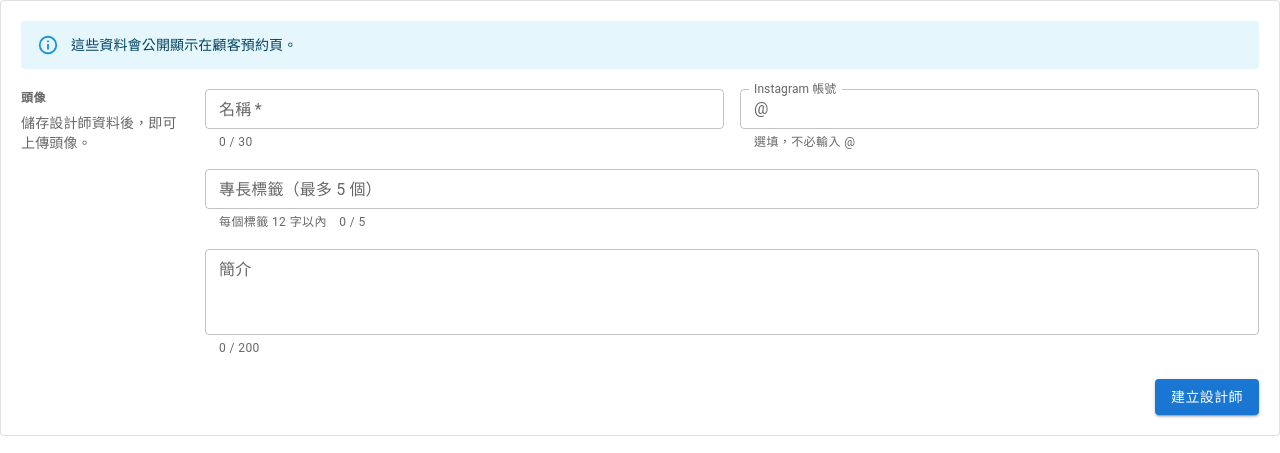
Scenario: DesignerBasicInfoForm › 名稱空白時阻擋送出並顯示錯誤文案
Click the button "建立設計師" at (1207, 397), box [1155,379,1259,415]
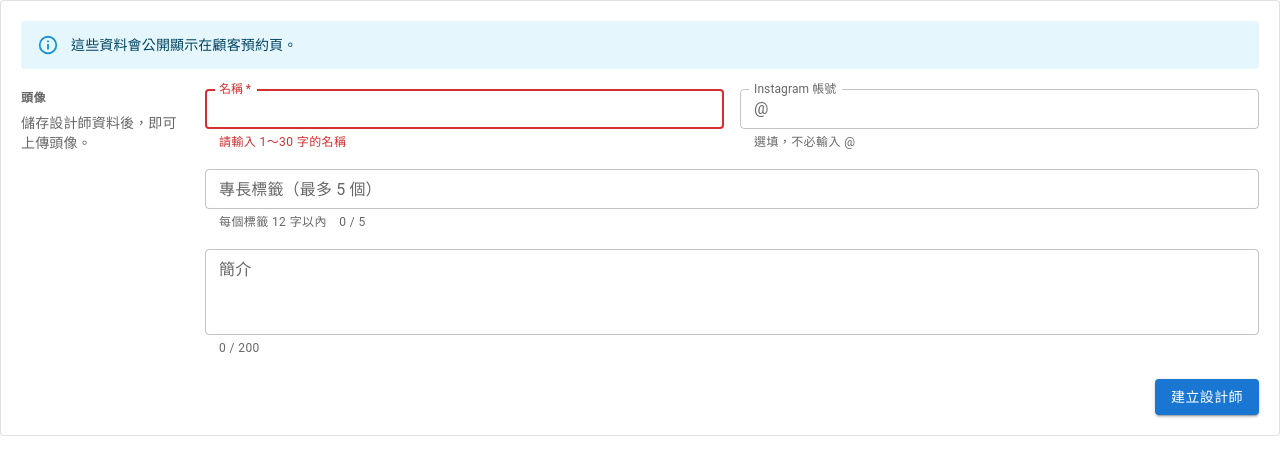
Result: the text "請輸入 1～30 字的名稱" is shown at [219,135,346,149]
